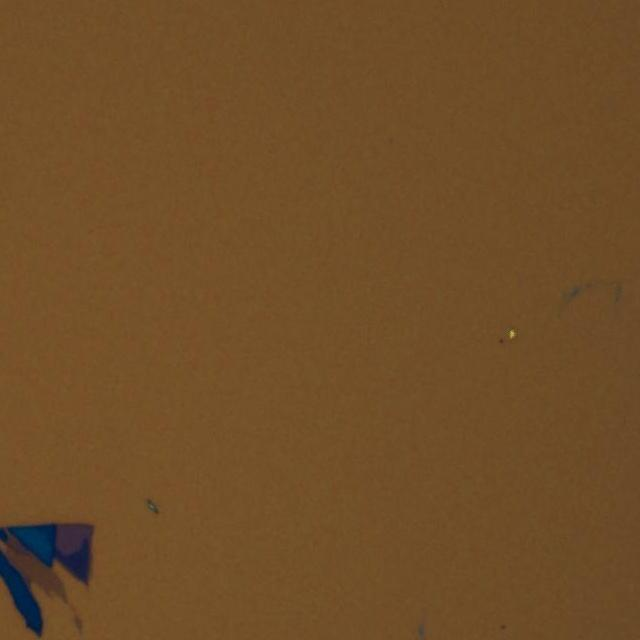monolayer-eWW4: (4, 530, 73, 604)
